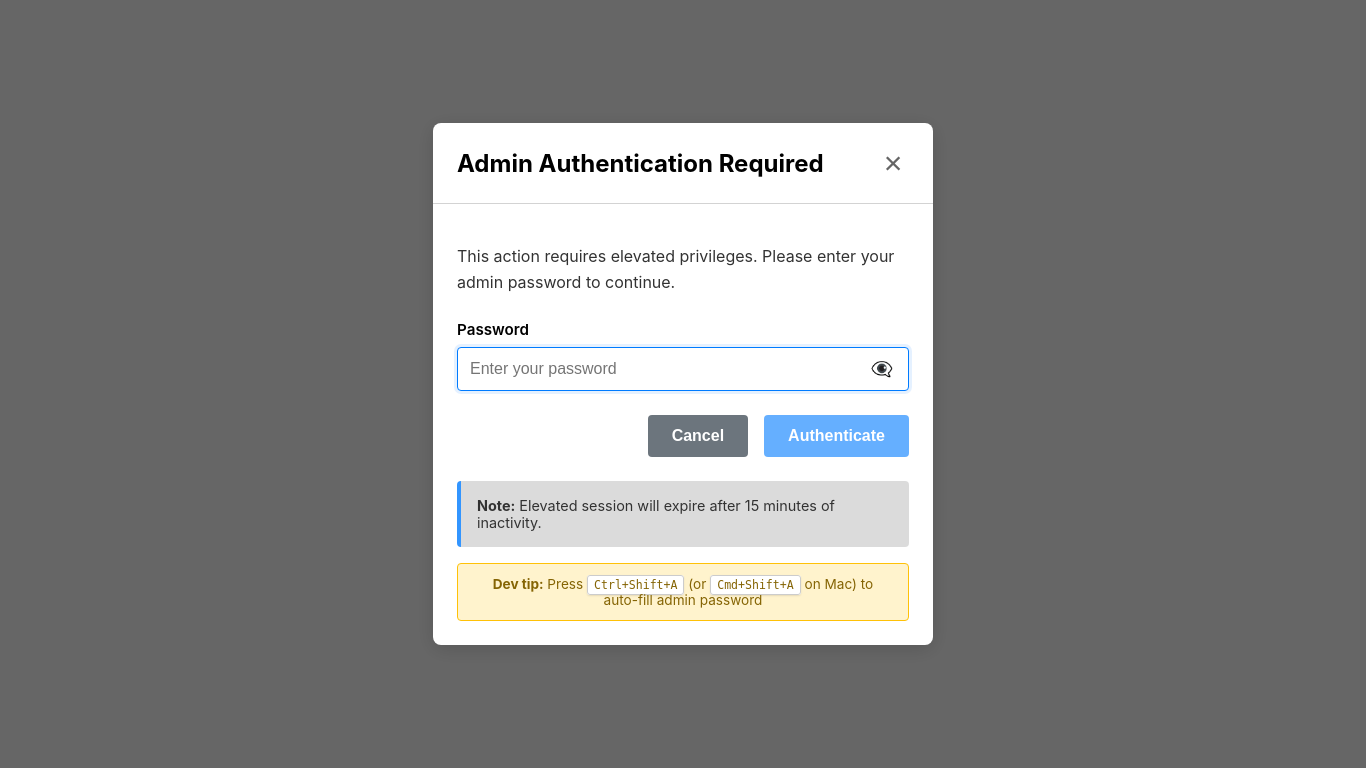
Scenario: AdminAuthModal › should show loading state during authentication
Type "testpassword" into the password field labelled "Password".
click(683, 369); type("testpassword")  # box [457,347,909,391]
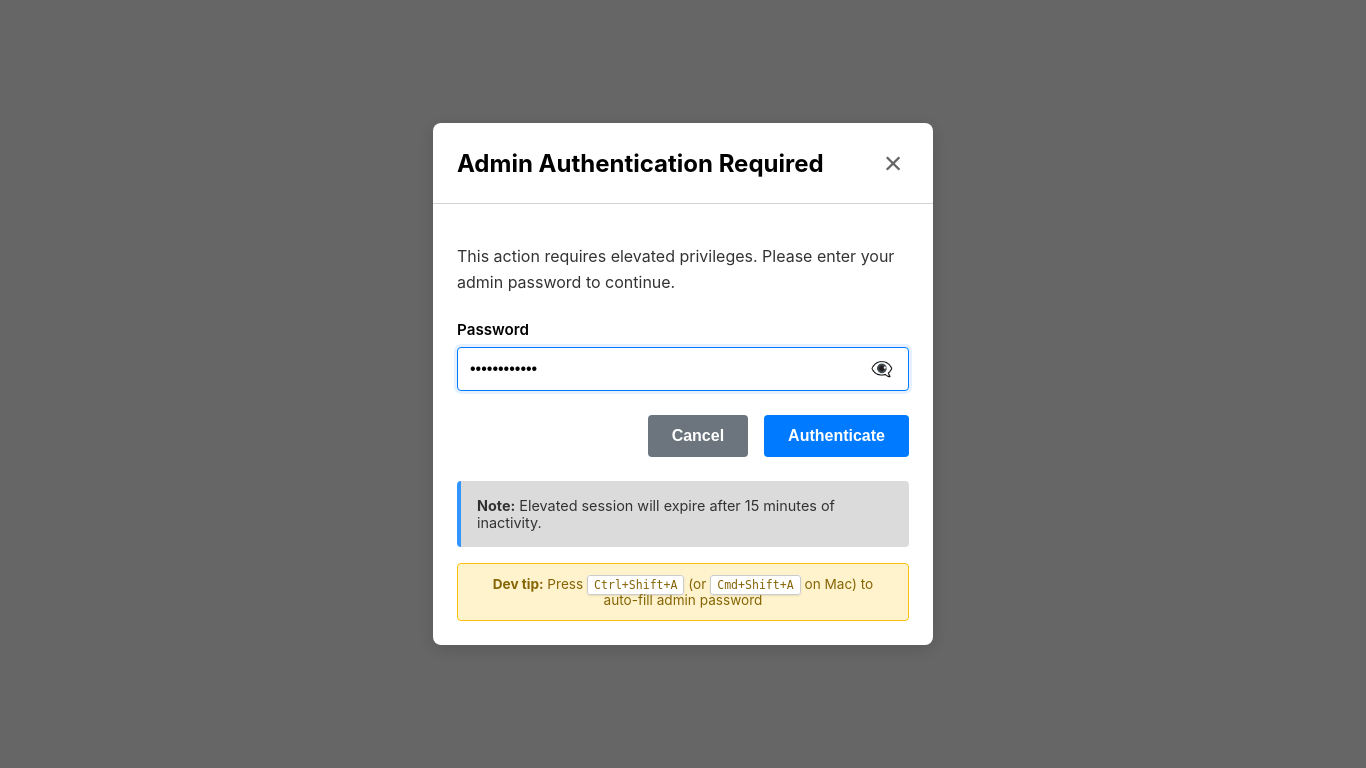
Click the button "Authenticate".
click(837, 436)  # box [764,415,909,457]
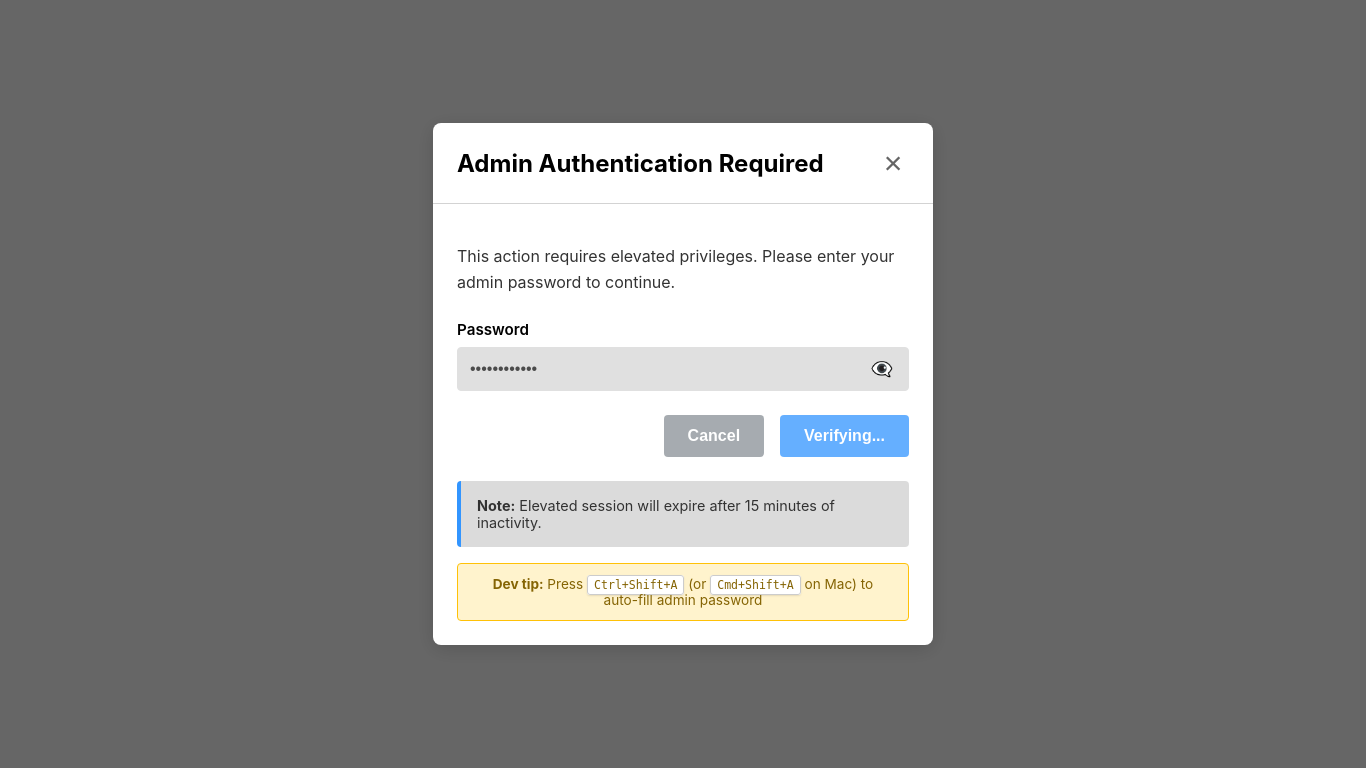
Result: the button "Verifying..." is disabled at [780,415,909,457]
Result: the password field labelled "Password" is disabled at [457,347,909,391]
